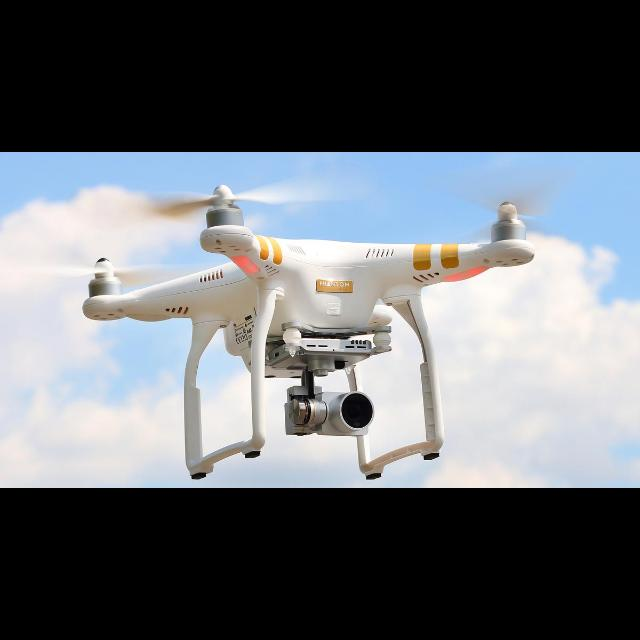Drone: (61, 178, 578, 406)
